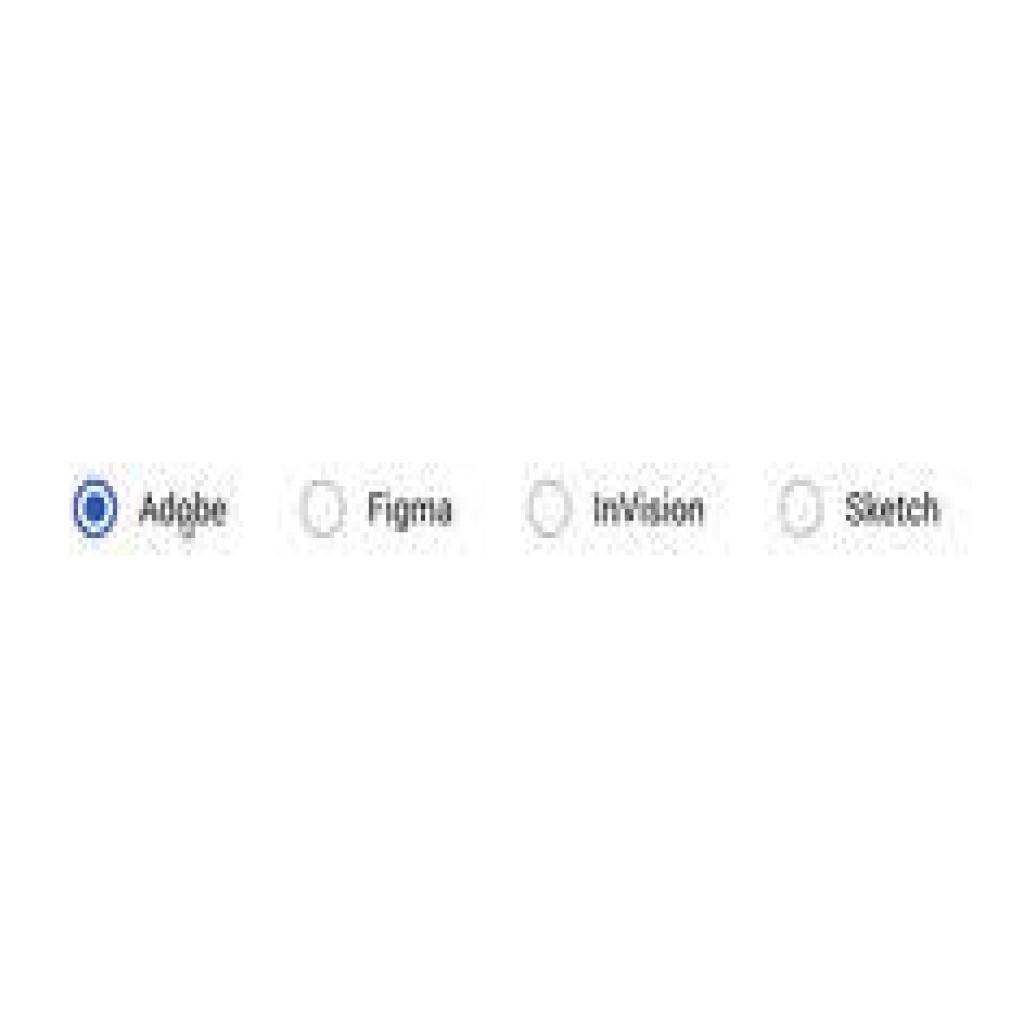radio: (523, 474, 579, 543), (72, 475, 123, 545), (776, 475, 827, 539), (302, 477, 352, 538)
